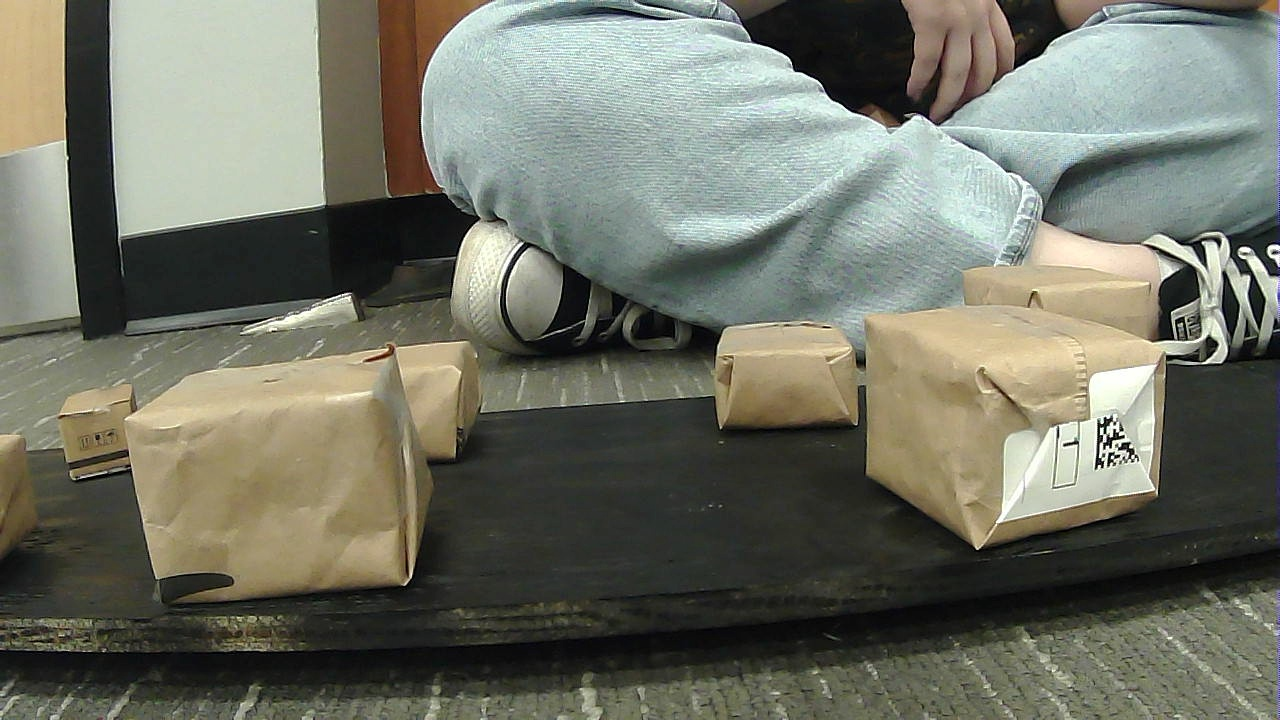package: (849, 278, 1202, 549), (97, 344, 444, 597), (952, 237, 1187, 375), (678, 308, 881, 434), (320, 330, 506, 466), (47, 385, 166, 485), (2, 421, 59, 549)
